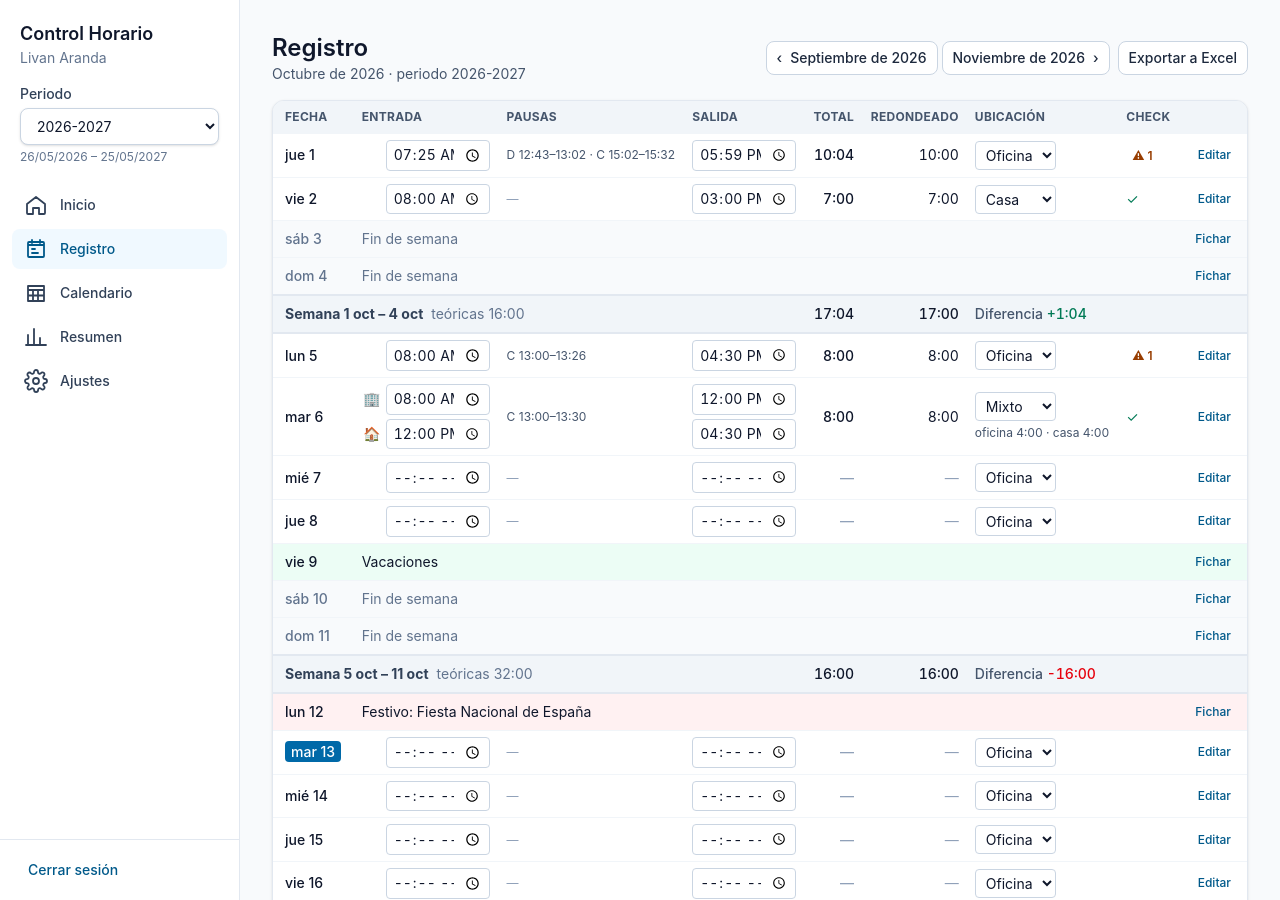
Test: Registro mensual › despliega los avisos de un día
This screenshot has width=1280, height=900.
Click the button named "1 aviso del jue 1" at (1142,156), box [1126,146,1159,166]
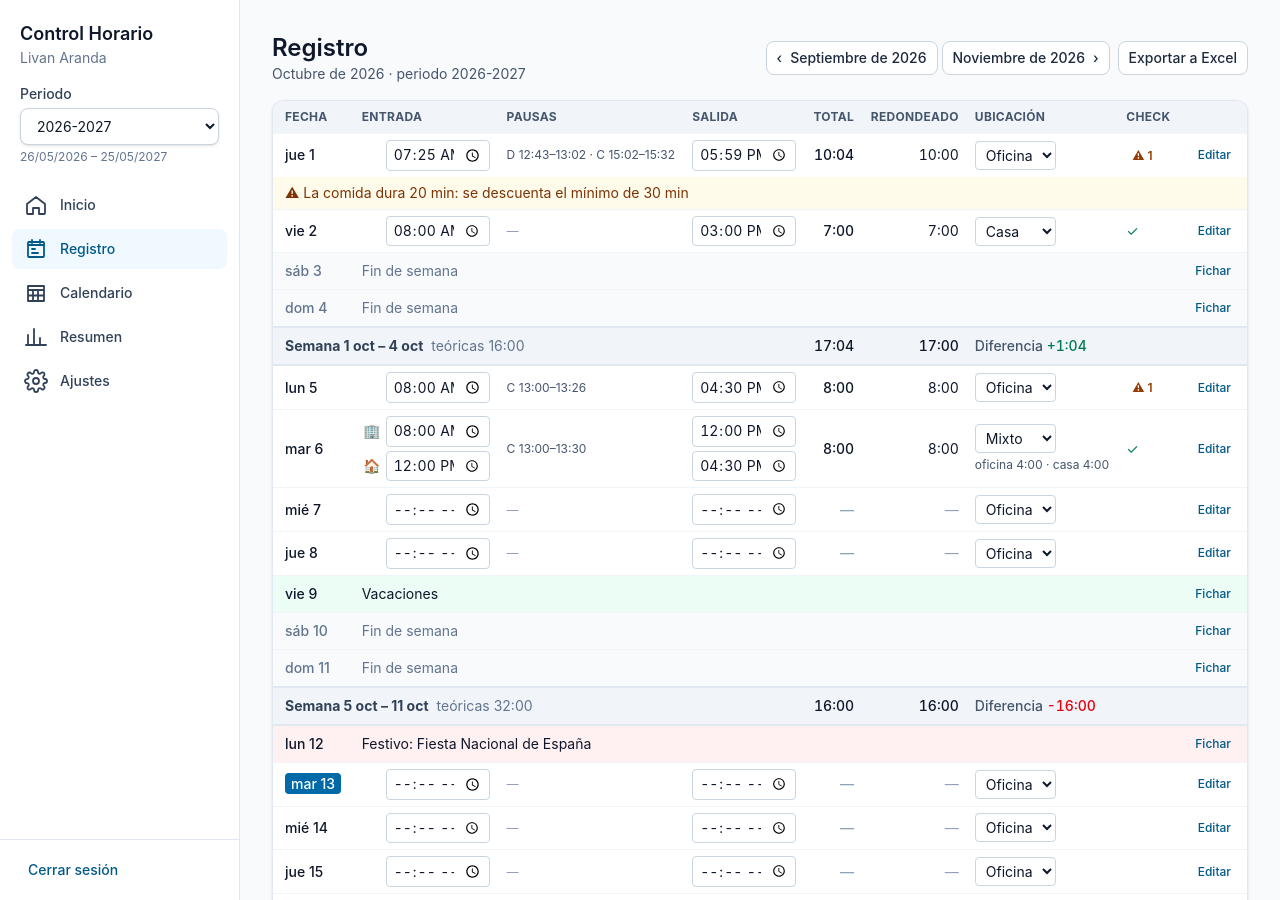
Now the list item "⚠ La comida dura 20 min: se descuenta el mínimo de 30 min" is shown, box [285,184,689,201]
